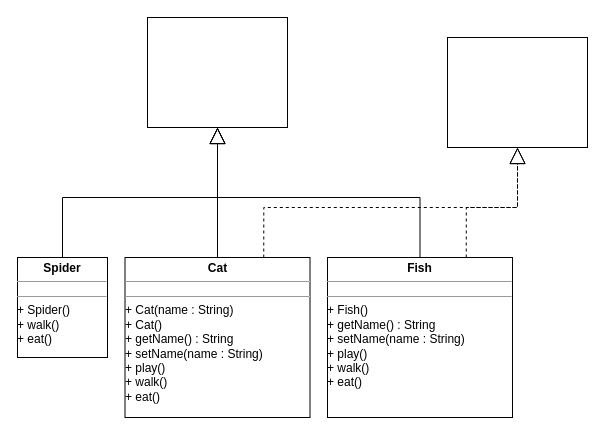
The diagram is 605 pixels wide and 435 high, and some of its shapes have lost their labels. Each missing label, with the box of its shape:
<<interface>> Pet + getName() : String + setName(name : String) + play(): (446, 36, 588, 148)
Animal # legs : int # Animal(legs : int) + walk() + eat(): (146, 16, 288, 128)
